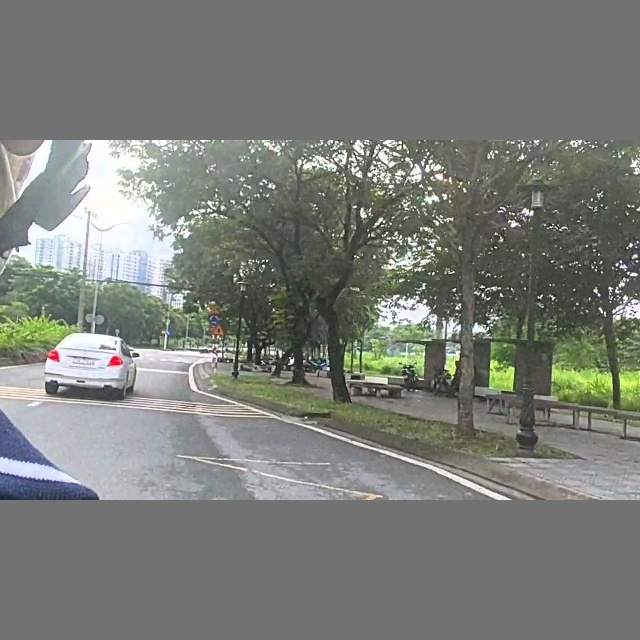P.102: (160, 328, 166, 335)
R.302a: (166, 330, 171, 336)
R.303: (209, 315, 219, 324)
W.207: (212, 325, 225, 336)
